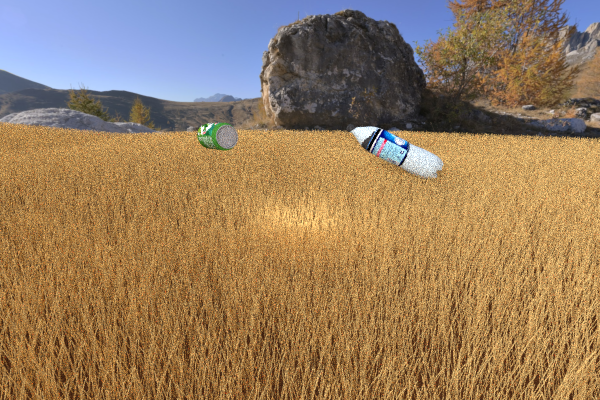Plastic Bottle: (346, 123, 443, 180), (197, 122, 238, 150)
